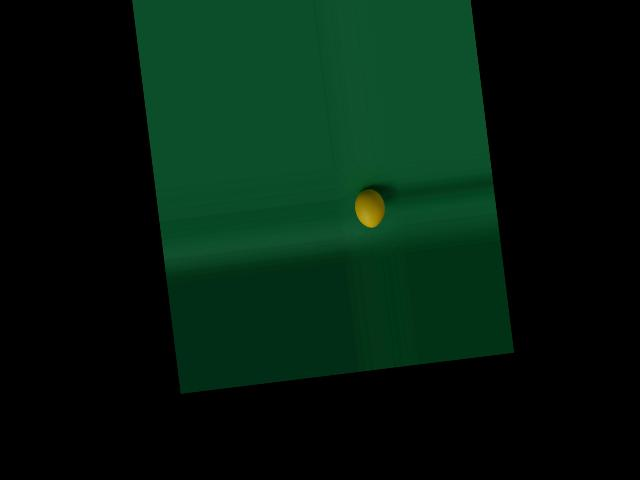egg: (352, 187, 386, 229)
